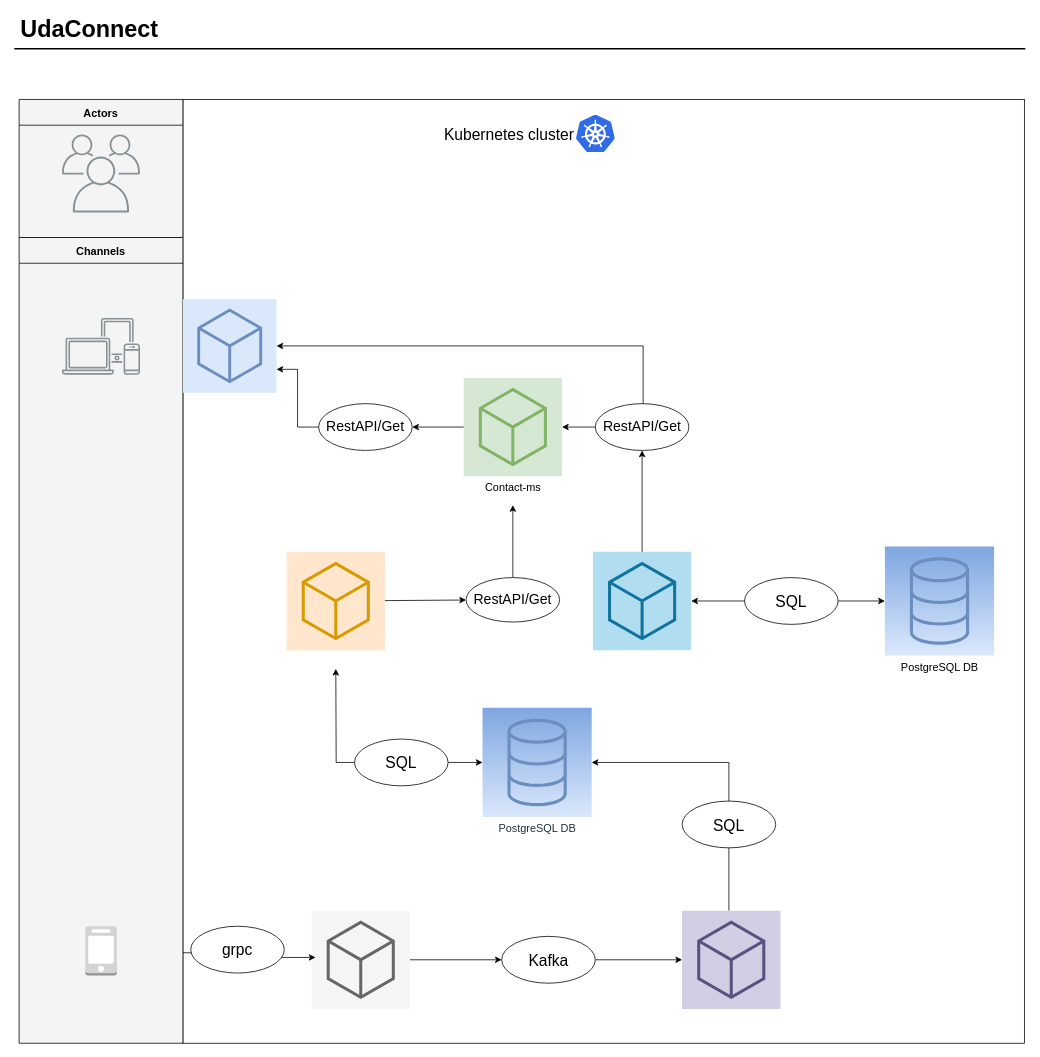
Some shapes in this 1040 by 1057 pixel diagram are drawn without their labels. Here are the shapes that lost their labels. From the top down, the centre of each, then its label:
At pixel 101 173: "users".
At pixel 101 345: "devices".
At pixel 229 345: "ReactJS Client".
At pixel 335 600: "Location-ms".
At pixel 641 600: "Person-ms".
At pixel 360 959: "Location-producer-ms".
At pixel 730 959: "Location-saver-ms".
